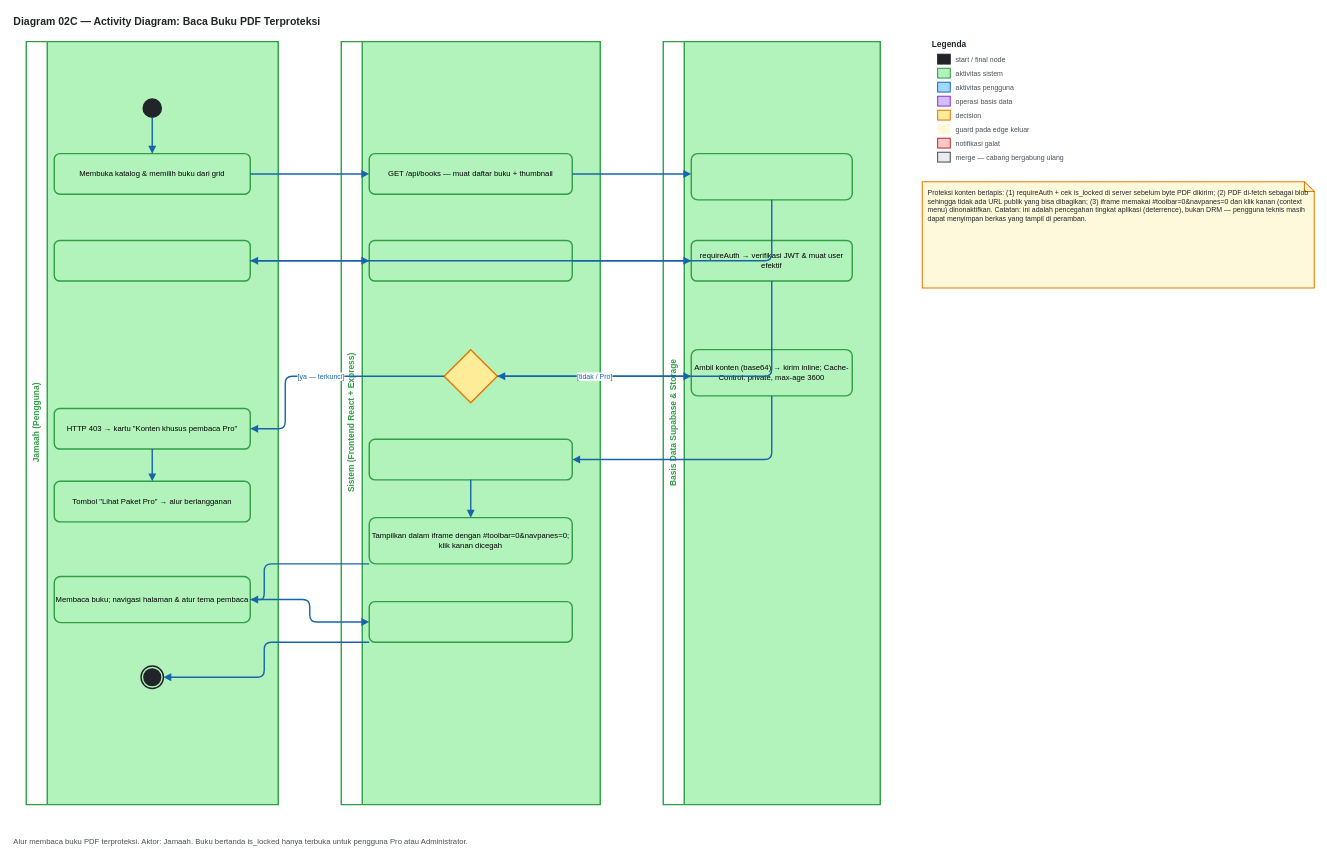
Image size: 1327x861. Some labels were removed from this diagram. Each missing label, with the centre of its shape:
"Buku terkunci (is_locked) DAN bukan Pro/admin?" goes at point (470, 376).
"GET /api/books/:id/content dengan header Authorization" goes at point (470, 260).
"Klik kartu buku → buka PdfReaderScreen" goes at point (152, 260).
"SELECT * FROM books; sajikan thumbnail (publik, max-age 86400)" goes at point (771, 176).
"Simpan posisi halaman terakhir (per pengguna)" goes at point (470, 622).
"Terima blob PDF → buat objek URL lokal" goes at point (470, 459).
